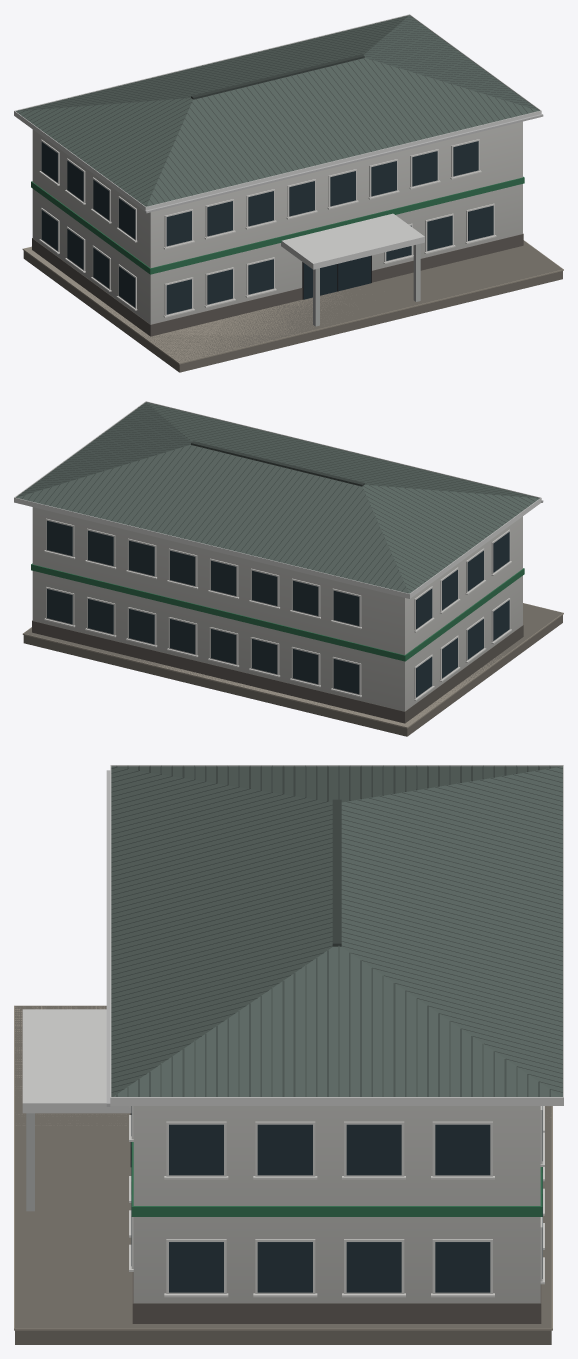
File: ns_clinic.glb
The picture shows the model from 3 angles, top to bottom: view 1: azimuth 30°, elevation 25°; view 2: azimuth 150°, elevation 25°; view 3: azimuth 270°, elevation 25°; orthographic projection. The views are drawn at different scales.
Visible parts, largest first — view 1: ns_clinic; view 2: ns_clinic; view 3: ns_clinic.
Boxes of the visible parts, left/top/right/bottom form: ns_clinic: left=14, top=14, right=563, bottom=372; ns_clinic: left=14, top=401, right=563, bottom=736; ns_clinic: left=14, top=765, right=563, bottom=1344.
Size of the model in its own units: 21.32 by 9.31 by 14.86.
